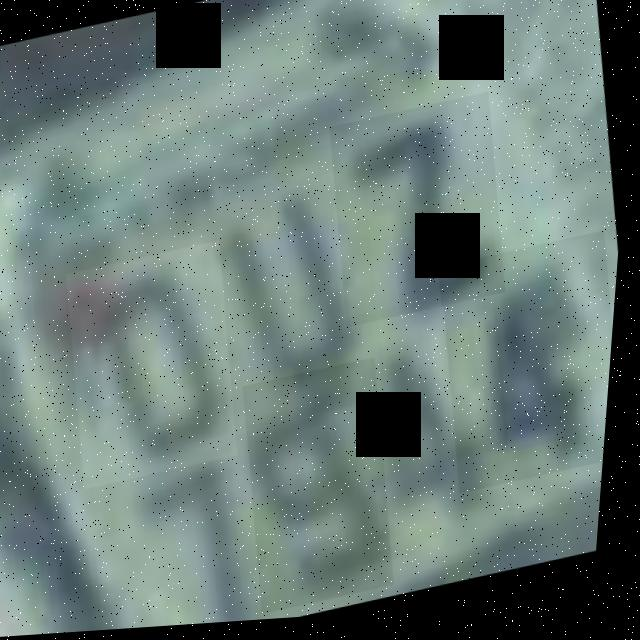4: (333, 291, 539, 575), (431, 237, 624, 502)
7: (124, 429, 293, 632)
9: (236, 360, 417, 620)
O: (58, 242, 257, 492)
U: (167, 140, 409, 444)
Z: (320, 97, 524, 334)
